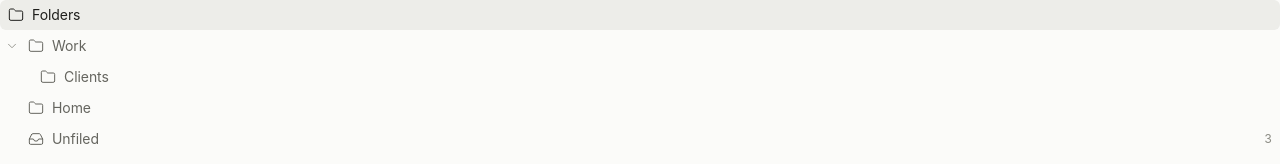
Scenario: the sidebar folder tree › shows the folders as a tree with Unfiled, and collapses a folder
Expected: the link "Unfiled 3" is shown, 28,130 -> 1272,147
Click the button named "Collapse Work" at {"x": 12, "y": 46}, box 4,38 -> 20,54
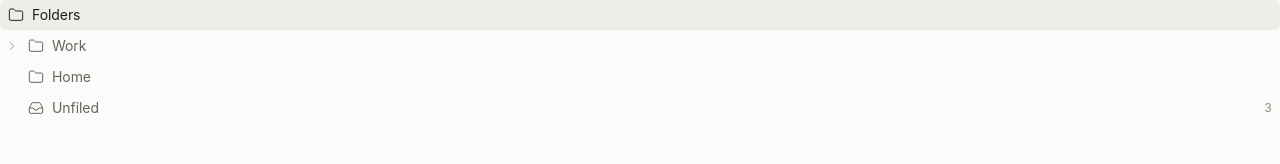
Result: the list item "Clients" is gone
